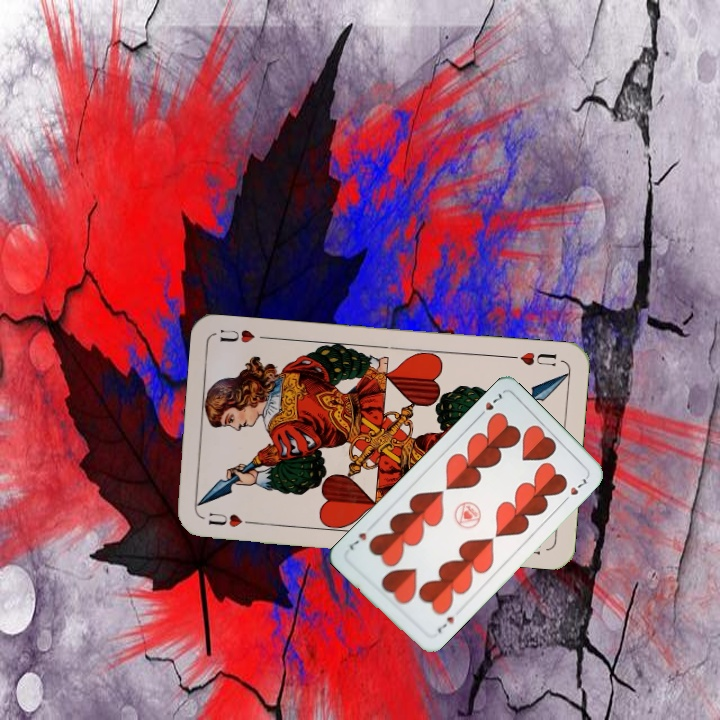H7: (473, 389, 505, 421), (433, 612, 456, 635)
HU: (204, 508, 260, 530), (504, 348, 559, 369)
